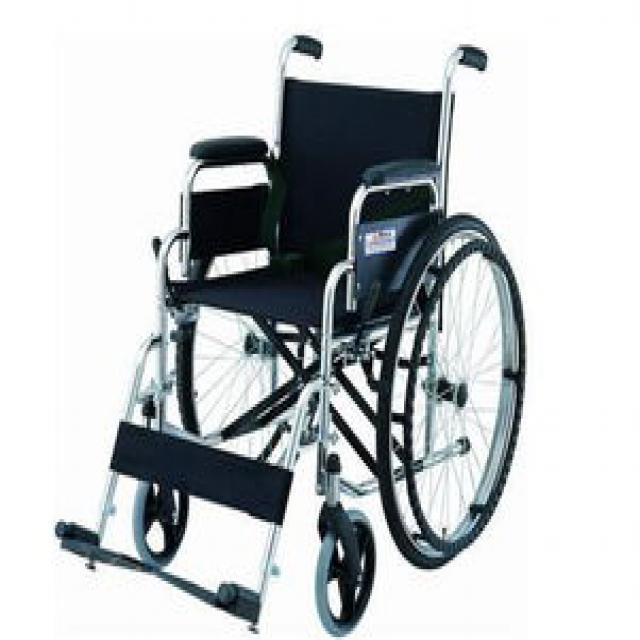wheelchair: (53, 23, 527, 638)
